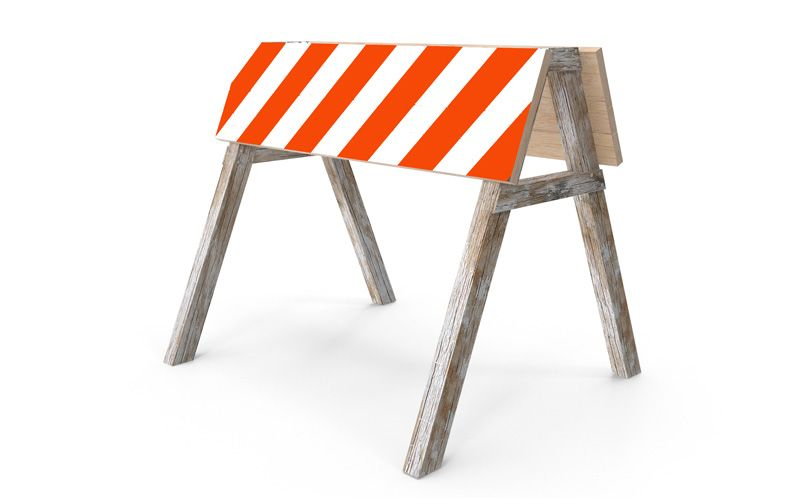Barrier: (161, 27, 680, 476)
